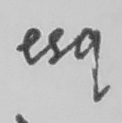e: (16, 25, 43, 67)
q: (70, 25, 113, 104)
s: (44, 26, 65, 68)
